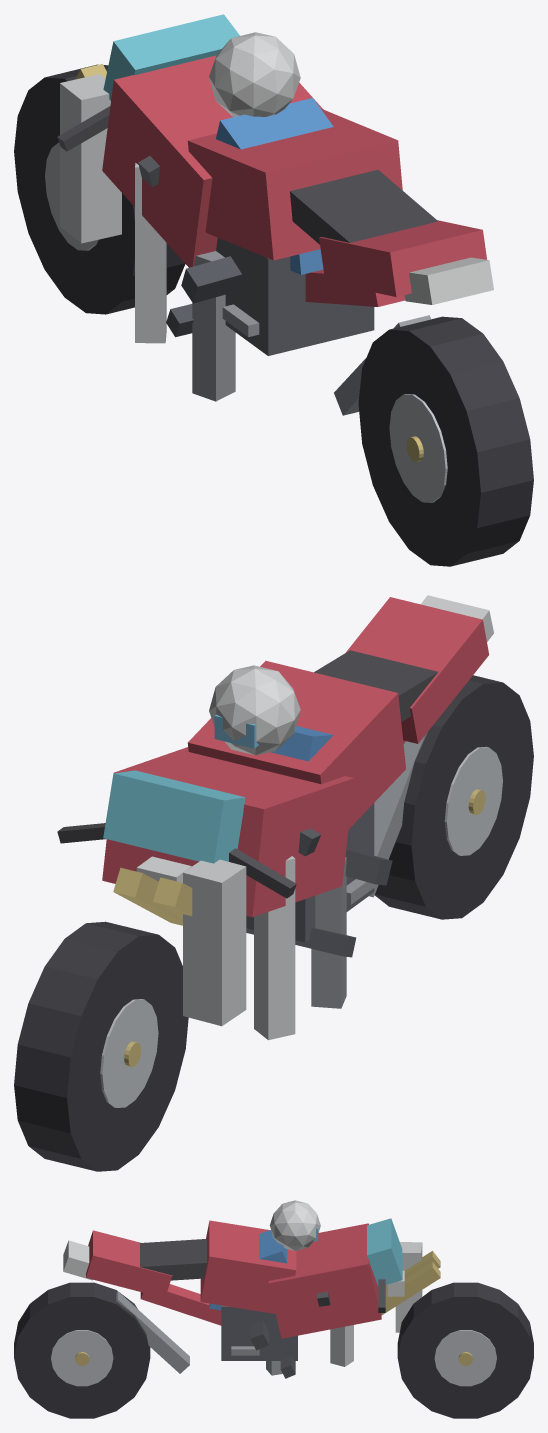
Rendered from motorcycle_with_rider.glb.
3 views of the same model, one above another, from view 1: azimuth 30°, elevation 25°; view 2: azimuth 150°, elevation 25°; view 3: azimuth 270°, elevation 25° (orthographic). The views are drawn at different scales.
Parts seen in each view (by area): view 1: g37, g20, g21, g34, g25, g16, g22, g17, g9, g19, g36, g24 (+11 smaller); view 2: g34, g37, g20, g21, g22, g19, g16, g9, g23, g36, g33, g24 (+13 smaller); view 3: g34, g37, g20, g21, g16, g25, g33, g36, g17, g9, g19, g29 (+12 smaller).
Boxes of the visible parts, box(x1,y1,x2,y2) form: g37: box(358, 316, 533, 566); g20: box(102, 55, 323, 267); g21: box(187, 108, 402, 260); g34: box(14, 64, 185, 314); g25: box(216, 238, 374, 355); g16: box(319, 220, 486, 296); g22: box(60, 74, 121, 243); g17: box(290, 170, 438, 244); g9: box(209, 32, 300, 116); g19: box(103, 14, 239, 100); g36: box(389, 394, 447, 502); g24: box(192, 251, 235, 401); g34: box(14, 921, 188, 1171); g37: box(375, 675, 533, 919); g20: box(102, 747, 353, 917); g21: box(187, 660, 405, 829); g22: box(183, 859, 246, 1026); g19: box(103, 770, 245, 863); g16: box(345, 597, 489, 743); g9: box(209, 665, 300, 755); g23: box(254, 856, 295, 1040); g36: box(444, 746, 502, 855); g33: box(100, 999, 158, 1107); g24: box(311, 857, 346, 1008); g34: box(397, 1282, 533, 1418); g37: box(14, 1282, 150, 1418); g20: box(268, 1223, 381, 1338); g21: box(200, 1220, 296, 1313); g16: box(86, 1230, 172, 1298); g25: box(221, 1305, 297, 1360); g33: box(434, 1330, 496, 1386); g36: box(51, 1330, 113, 1386); g17: box(140, 1239, 206, 1280); g9: box(269, 1200, 320, 1250); g19: box(367, 1218, 402, 1286); g29: box(116, 1291, 189, 1373).
Bounding box in the file's own units: 1.06 × 1.62 × 3.66.
